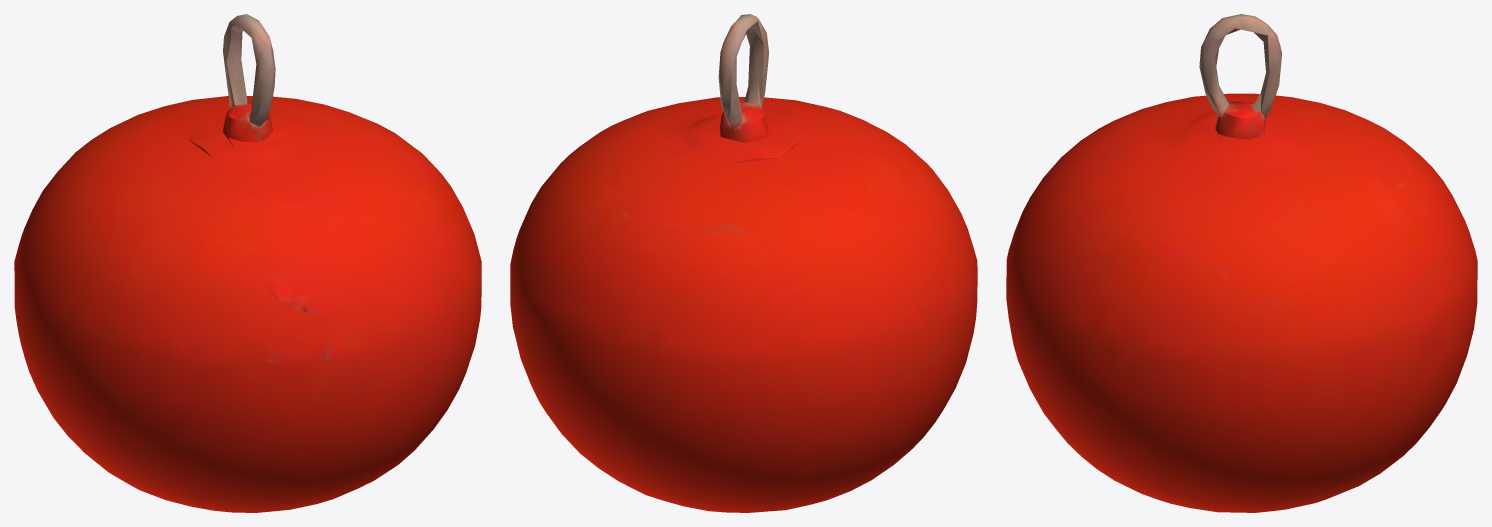
The model's file is buoy.glb.
3 renders of one model, left to right at view 1: azimuth 30°, elevation 25°; view 2: azimuth 150°, elevation 25°; view 3: azimuth 270°, elevation 25°, orthographic.
Visible parts, largest first — view 1: buoy; view 2: buoy; view 3: buoy.
Boxes of the visible parts, bbox=[...] form: buoy: bbox=[14, 14, 481, 512]; buoy: bbox=[510, 14, 977, 512]; buoy: bbox=[1006, 14, 1477, 512].
Size of the model in its own units: 0.4575 by 0.5 by 0.4582.
1 material, 1 textured.
